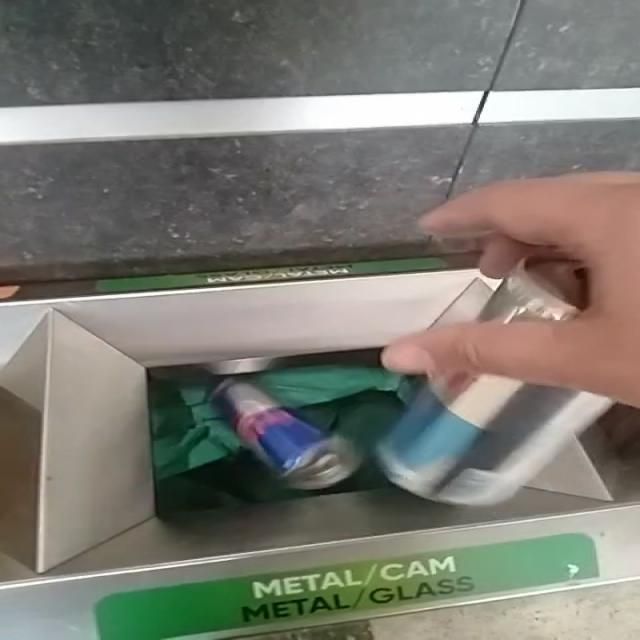Metal: (223, 383, 360, 490)
